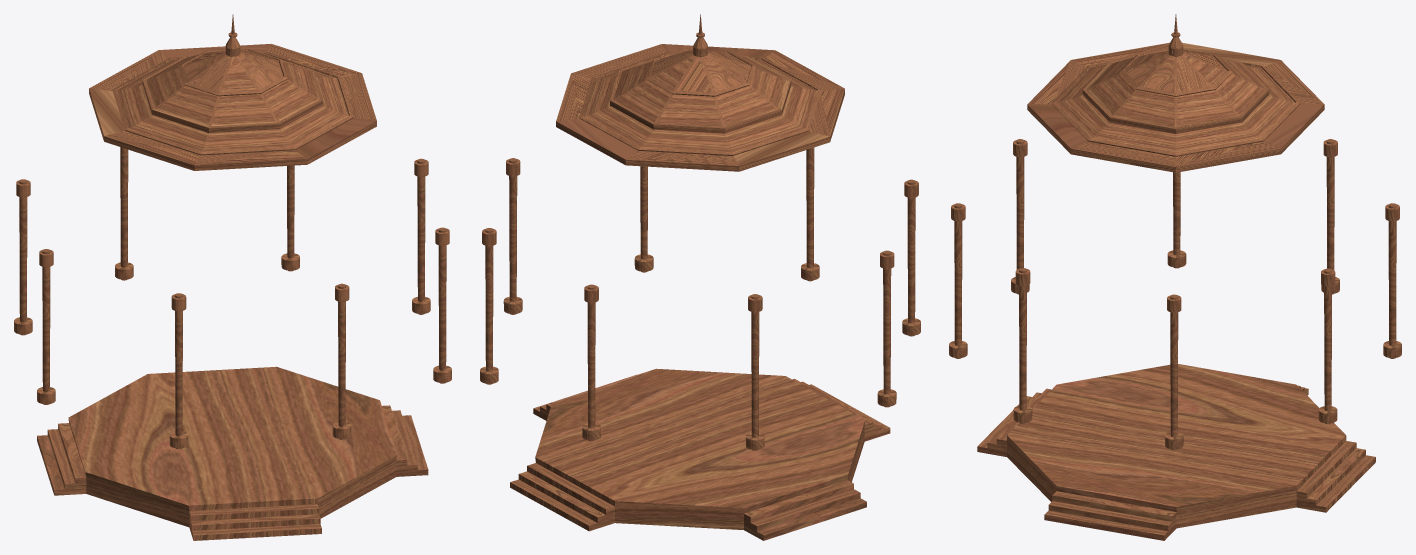
File: gazebo_new.fbx
The picture shows the model from 3 angles, left to right: view 1: azimuth 30°, elevation 25°; view 2: azimuth 150°, elevation 25°; view 3: azimuth 270°, elevation 25°; orthographic projection.
Visible parts, largest first — view 1: base, Cilin1, Cilin7, Cilin5, Cilindro, Cilin6, Cilin, Cilin4, Cilin2, Cilin3; view 2: base, Cilin1, Cilin, Cilin2, Cilin3, Cilin7, Cilindro, Cilin6, Cilin4, Cilin5; view 3: base, Cilin1, Cilin2, Cilin4, Cilin6, Cilin5, Cilin3, Cilin, Cilin7, Cilindro.
Part boxes in pixels (left/top/right/bottom): base: left=37, top=366, right=428, bottom=540; Cilin1: left=89, top=14, right=376, bottom=170; Cilin7: left=14, top=179, right=32, bottom=335; Cilin5: left=433, top=227, right=451, bottom=383; Cilindro: left=37, top=249, right=55, bottom=404; Cilin6: left=412, top=158, right=430, bottom=314; Cilin: left=169, top=293, right=188, bottom=449; Cilin4: left=332, top=283, right=351, bottom=439; Cilin2: left=115, top=147, right=133, bottom=280; Cilin3: left=281, top=165, right=299, bottom=271; base: left=510, top=368, right=890, bottom=540; Cilin1: left=556, top=14, right=844, bottom=171; Cilin: left=902, top=179, right=920, bottom=336; Cilin2: left=582, top=284, right=600, bottom=441; Cilin3: left=480, top=228, right=498, bottom=384; Cilin7: left=746, top=294, right=764, bottom=450; Cilindro: left=877, top=250, right=896, bottom=407; Cilin6: left=503, top=158, right=522, bottom=314; Cilin4: left=801, top=147, right=819, bottom=281; Cilin5: left=634, top=166, right=653, bottom=272; base: left=977, top=364, right=1375, bottom=540; Cilin1: left=1027, top=14, right=1324, bottom=172; Cilin2: left=1383, top=203, right=1401, bottom=358; Cilin4: left=949, top=203, right=967, bottom=358; Cilin6: left=1165, top=294, right=1183, bottom=450; Cilin5: left=1013, top=268, right=1032, bottom=423; Cilin3: left=1318, top=268, right=1337, bottom=424; Cilin: left=1011, top=139, right=1029, bottom=294; Cilin7: left=1321, top=139, right=1339, bottom=294; Cilindro: left=1167, top=172, right=1186, bottom=268.
Bounding box in the file's own units: 226 × 246 × 228.
